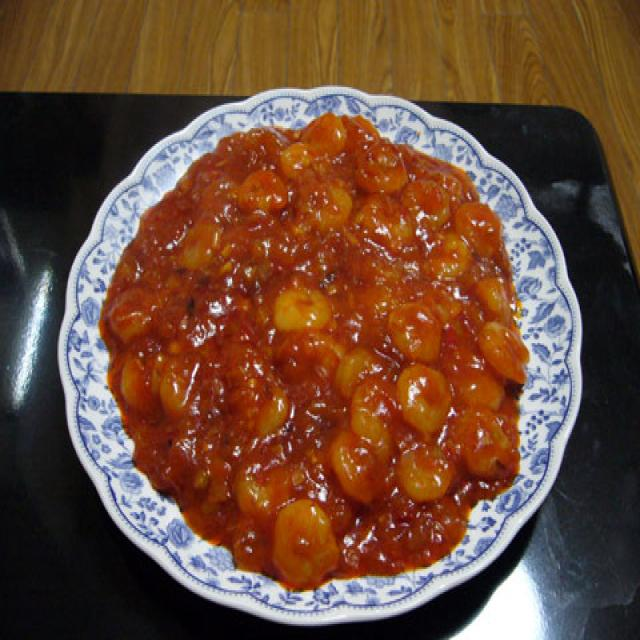熟制海鲜: (49, 69, 588, 640)
